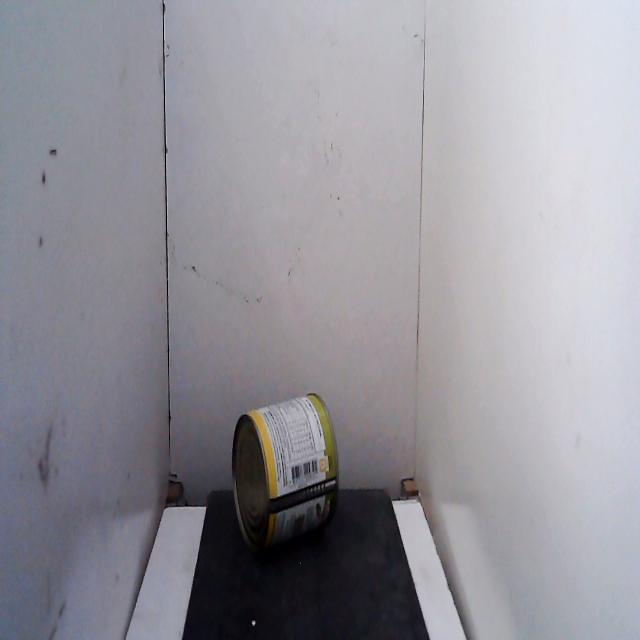metal: (216, 380, 354, 569)
